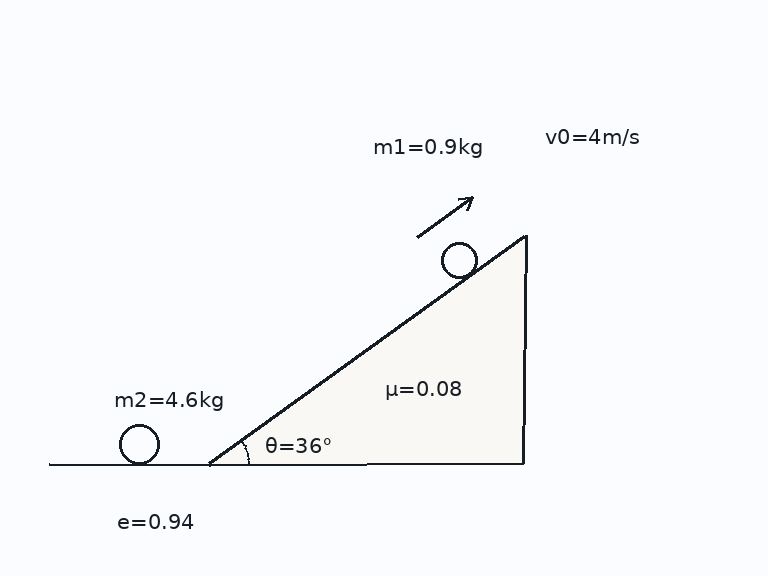ball: (117, 422, 161, 466), (439, 240, 479, 280)
ramp: (207, 233, 527, 466)
